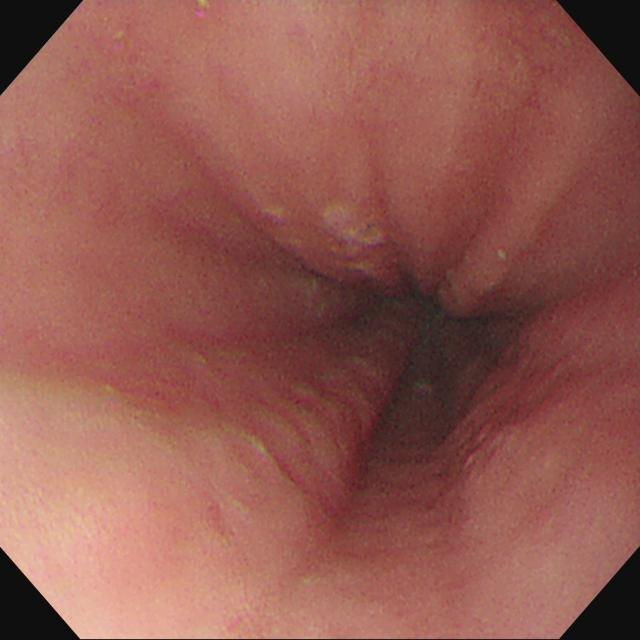E: (342, 250, 508, 408)
